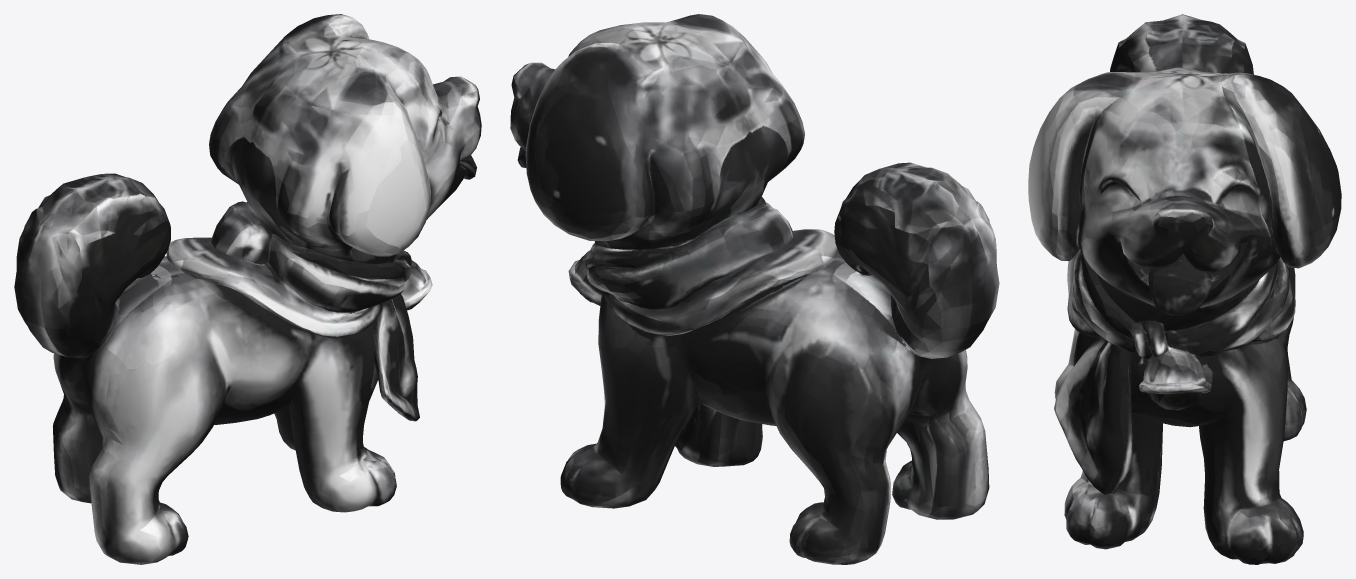
File: dog-silver.glb
3 renders of one model, left to right at view 1: azimuth 30°, elevation 25°; view 2: azimuth 150°, elevation 25°; view 3: azimuth 270°, elevation 25°, orthographic. The views are drawn at different scales.
Visible parts, largest first — view 1: geometry_0; view 2: geometry_0; view 3: geometry_0.
Boxes of the visible parts, box(x1,y1,x2,y2) form: geometry_0: box(14, 14, 481, 564); geometry_0: box(510, 14, 999, 564); geometry_0: box(1028, 14, 1341, 564).
Size of the model in its own units: 0.12 by 0.1087 by 0.0647.
Materials: 1 (1 with a texture image).
